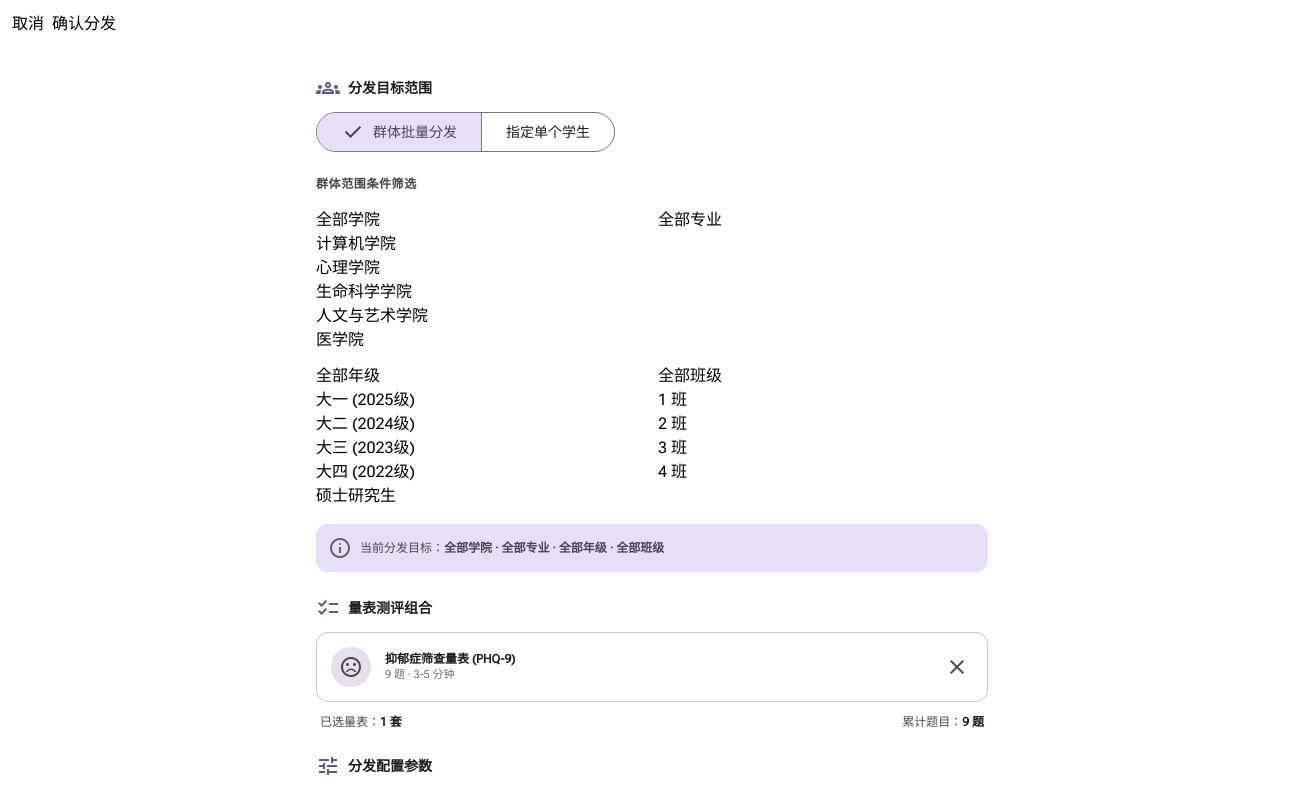
Test: AssessmentAssignmentCreationForm › allows switching to Individual Student mode and picking a student
The image size is (1292, 812).
Switch to individual student
Click the button "指定单个学生": (548, 132) [482,113,614,151]
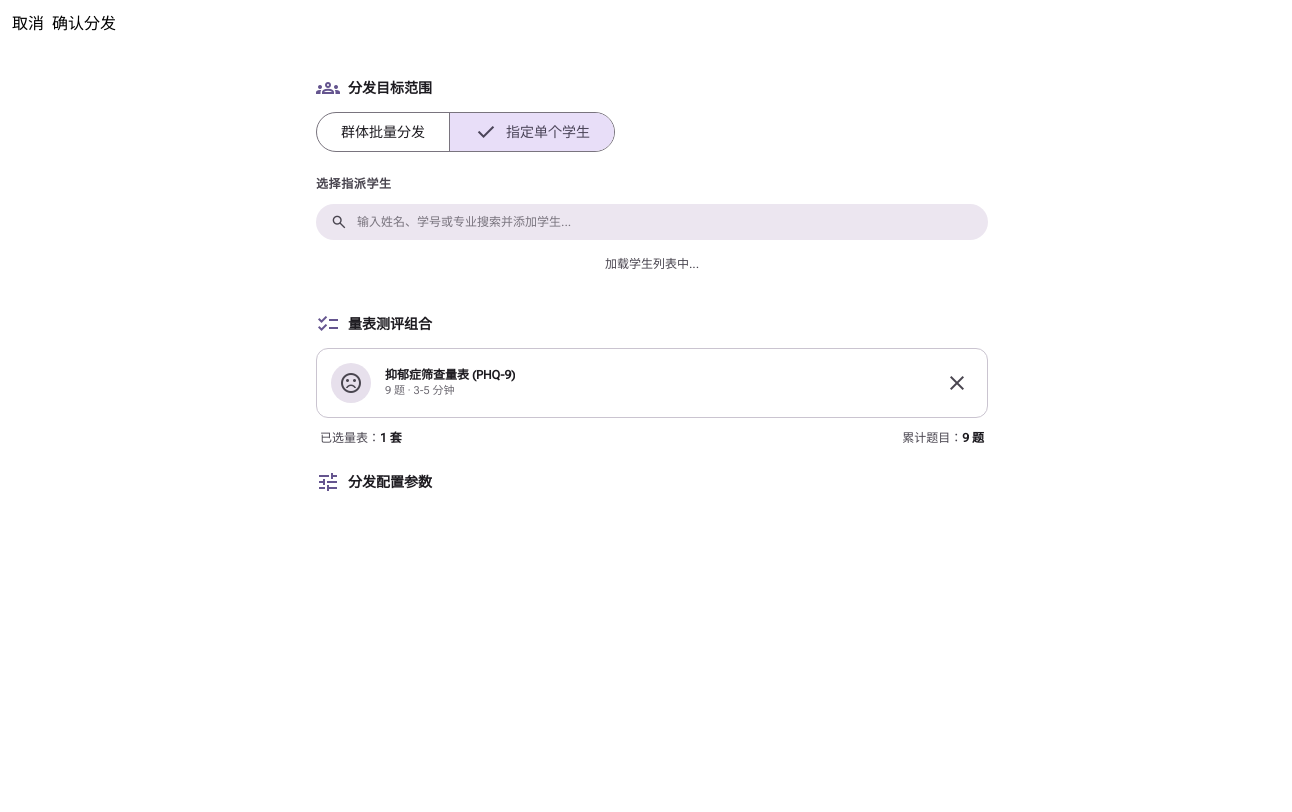
Expected: the text "选择指派学生" is shown, [316,177,392,191]
Focus the field with placeholder "输入姓名、学号或专业搜索并添加学生...": (652, 222) [316,204,988,240]
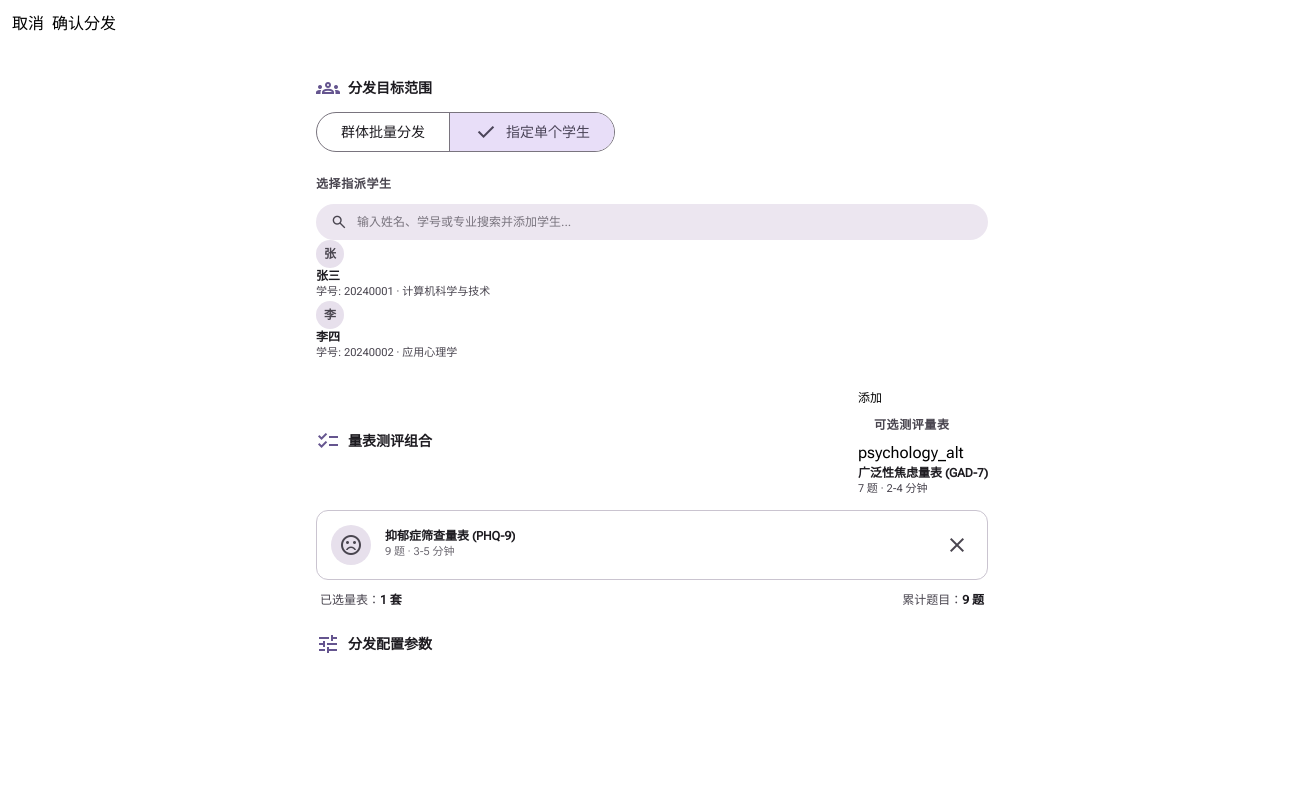
Expected: the text "张三" is shown
Expected: the text "李四" is shown, [316,330,340,344]
Select first student (张三)
Click the text "张三": (328, 276) [316,269,340,283]
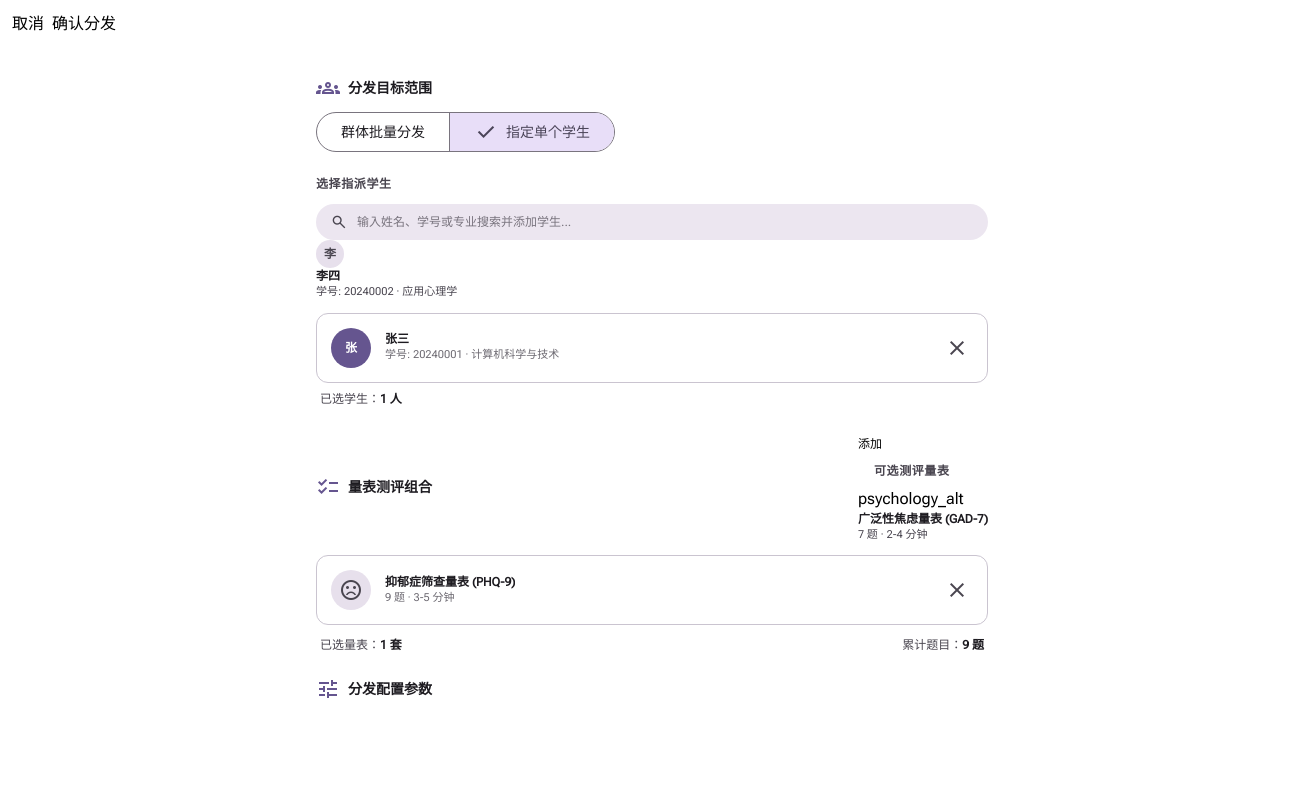
Expected: the field with placeholder "输入姓名、学号或专业搜索并添加学生..." is shown, [316,204,988,240]
Expected: the text "已选学生：" is shown, [320,392,380,406]
Expected: the text "1 人" is shown, [380,392,402,406]
Click the text "李四": (328, 276) [316,269,340,283]
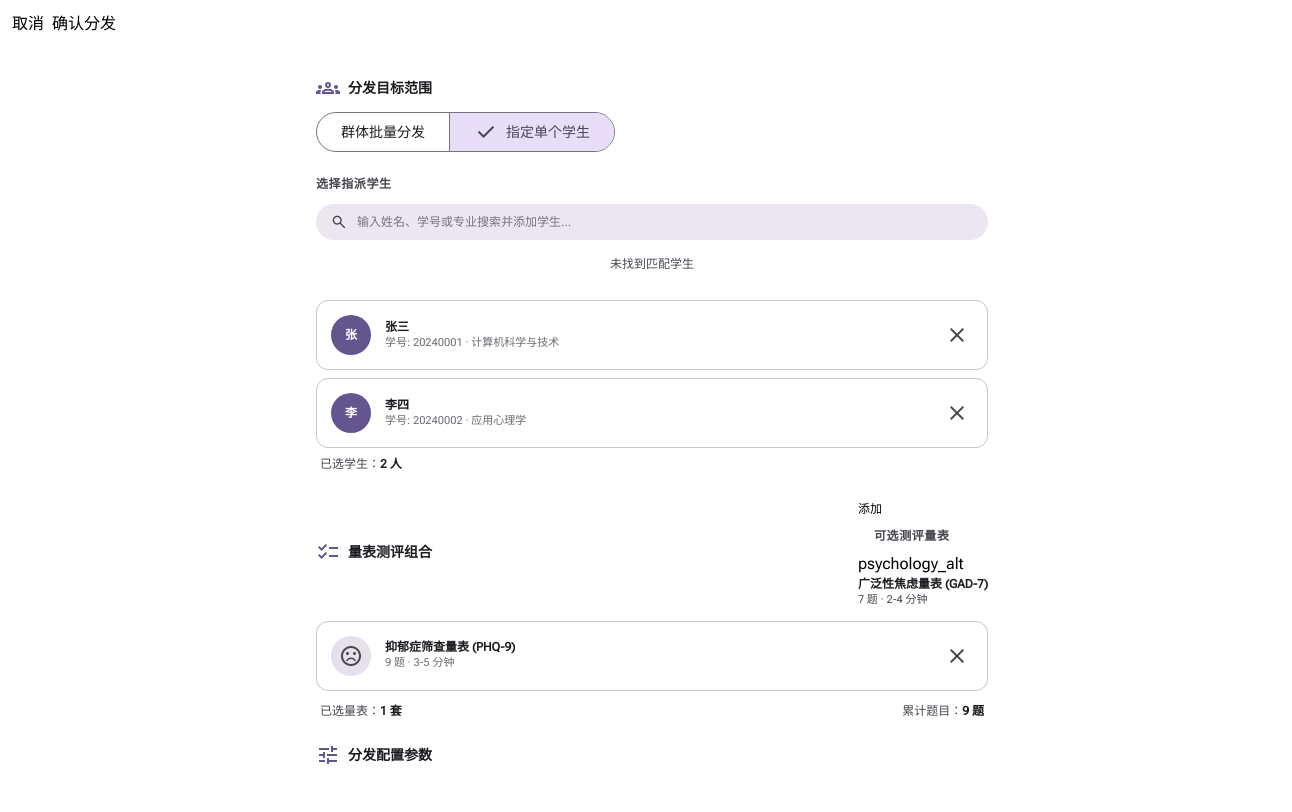
Expected: the text "2 人" is shown, [380,457,402,471]
Click the button titled "移除该学生" in the row of "计算机科学与技术": (957, 335) [941,319,973,351]
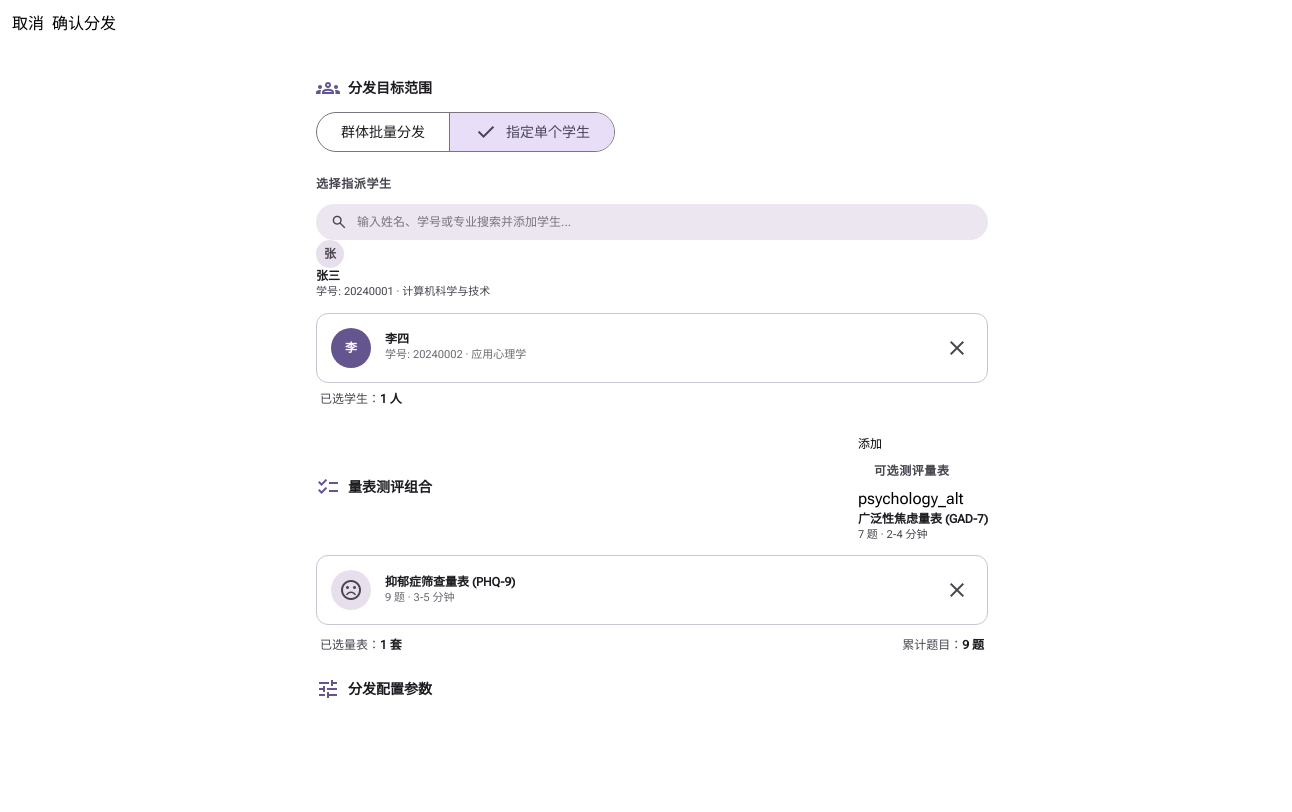
Expected: the text "1 人" is shown, [380,392,402,406]
